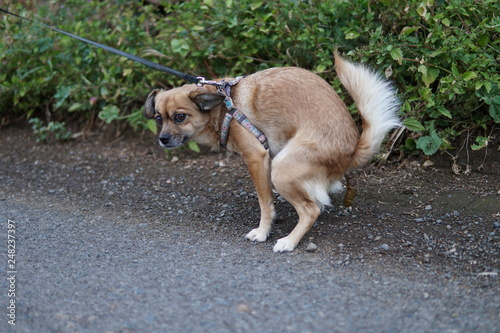dog_pooping: (141, 42, 408, 258)
